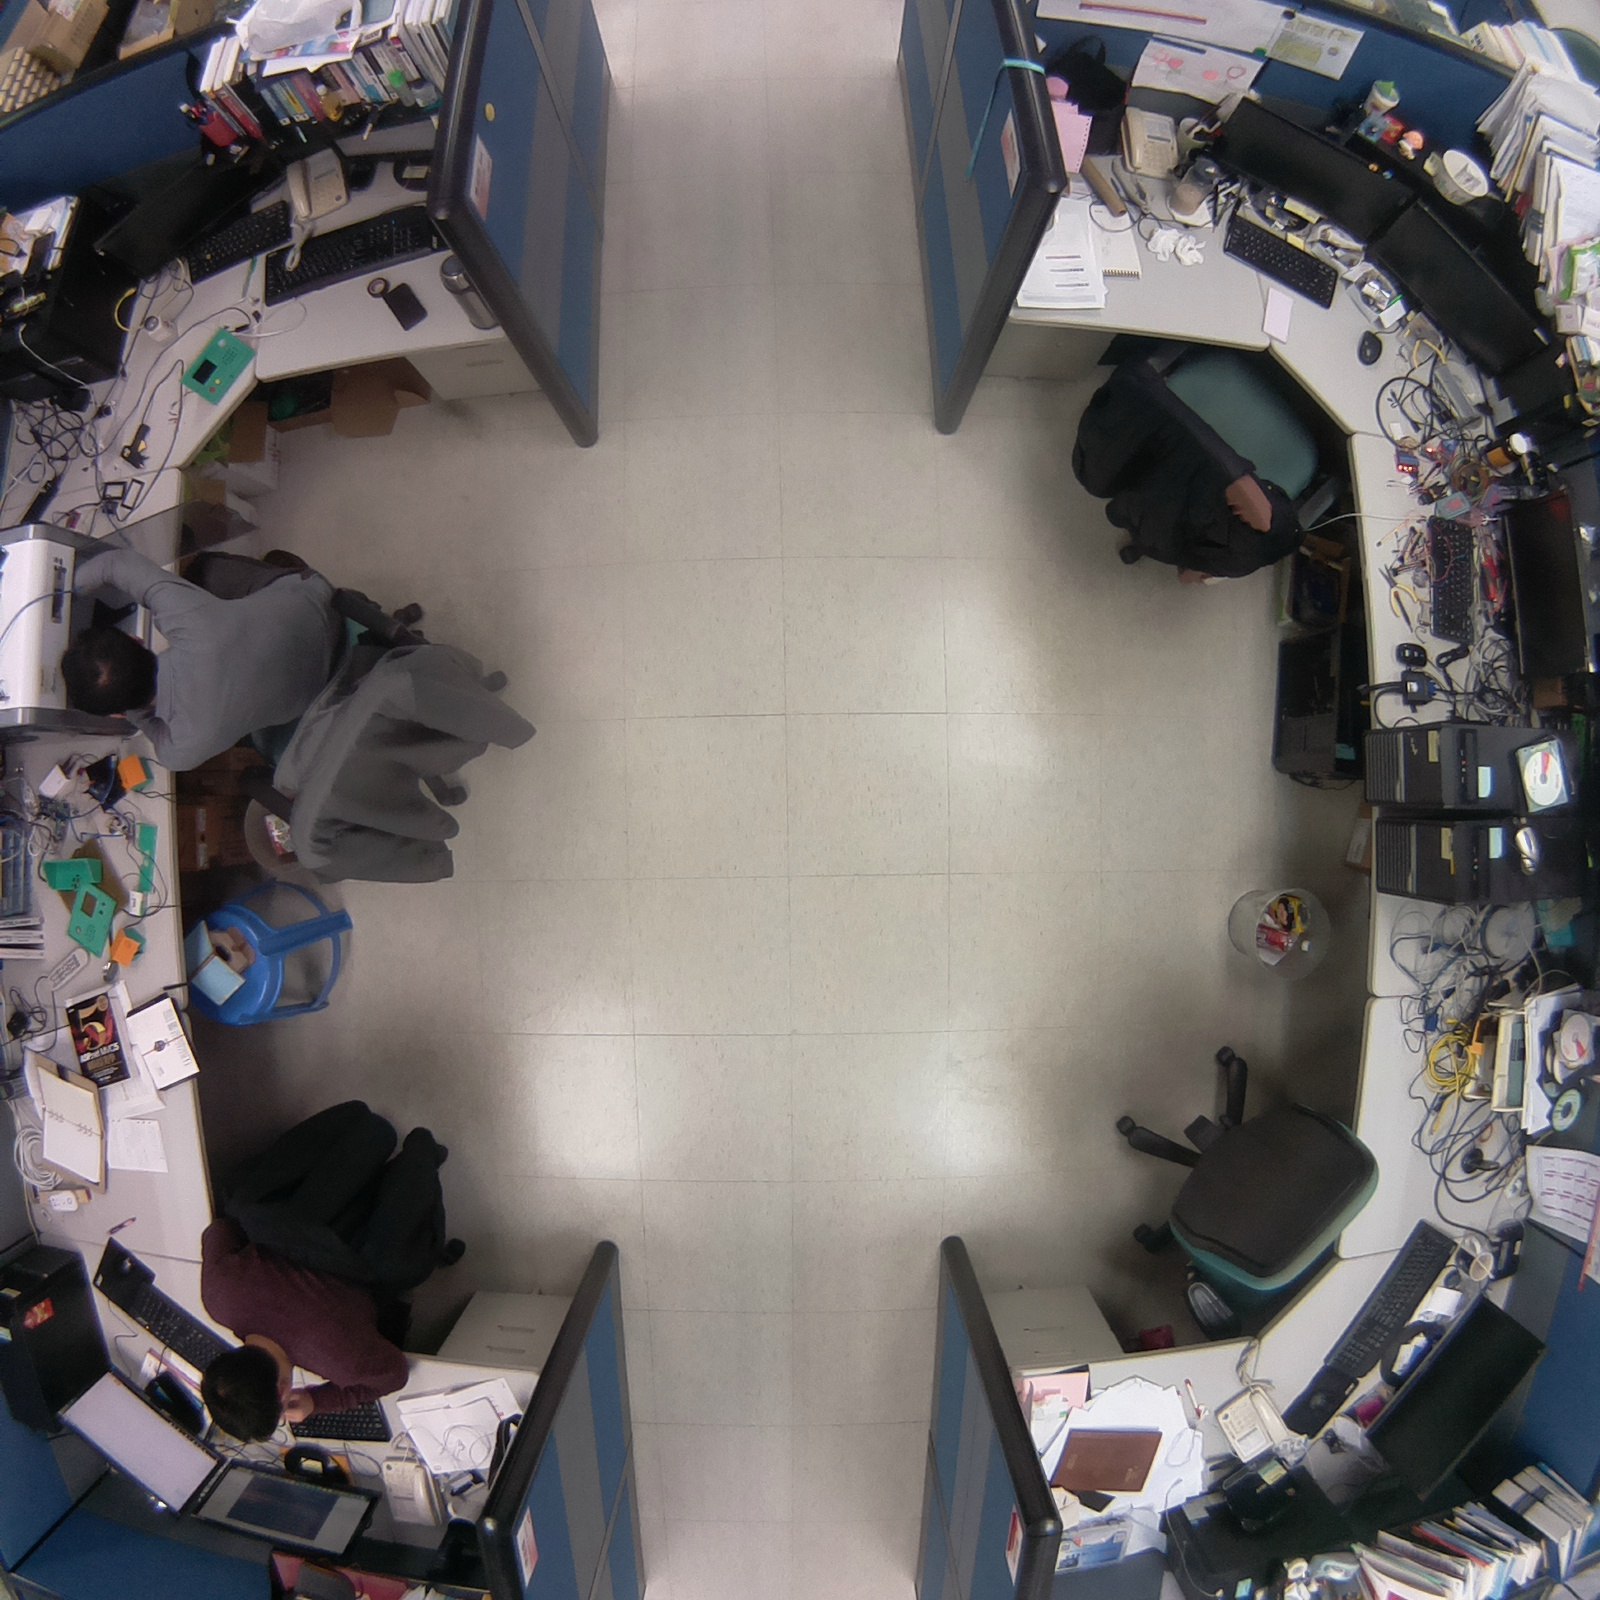chair: (1088, 1034, 1391, 1360), (1053, 324, 1360, 601)
head: (197, 1329, 291, 1444), (55, 629, 161, 723)
sitting: (53, 534, 550, 904), (181, 1086, 478, 1447)
